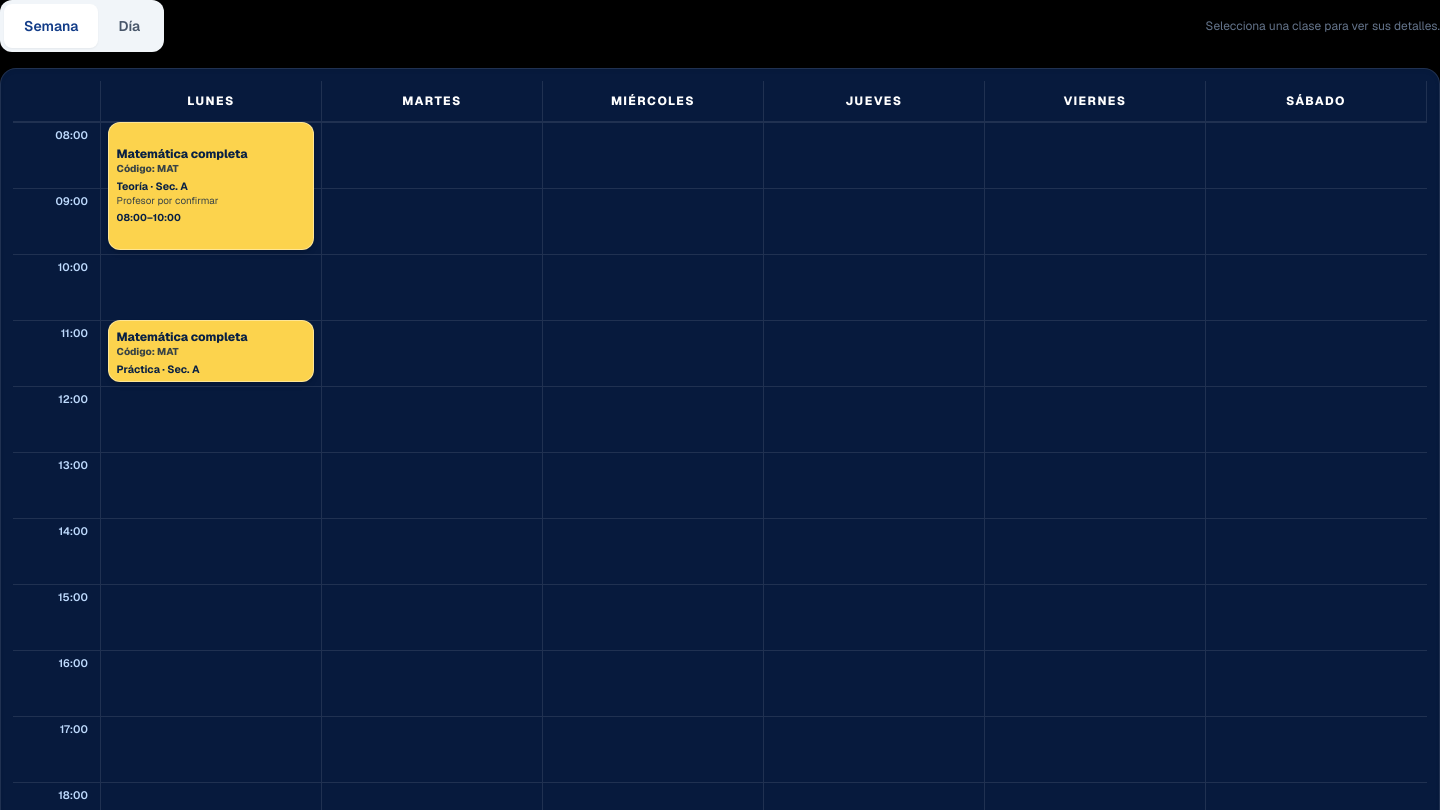
Scenario: experiencia del horario › presenta día completo, huecos y días sin clases
The width and height of the screenshot is (1440, 810).
Click the button "Día" at (129, 26), box x1=98 y1=4 x2=160 y2=48
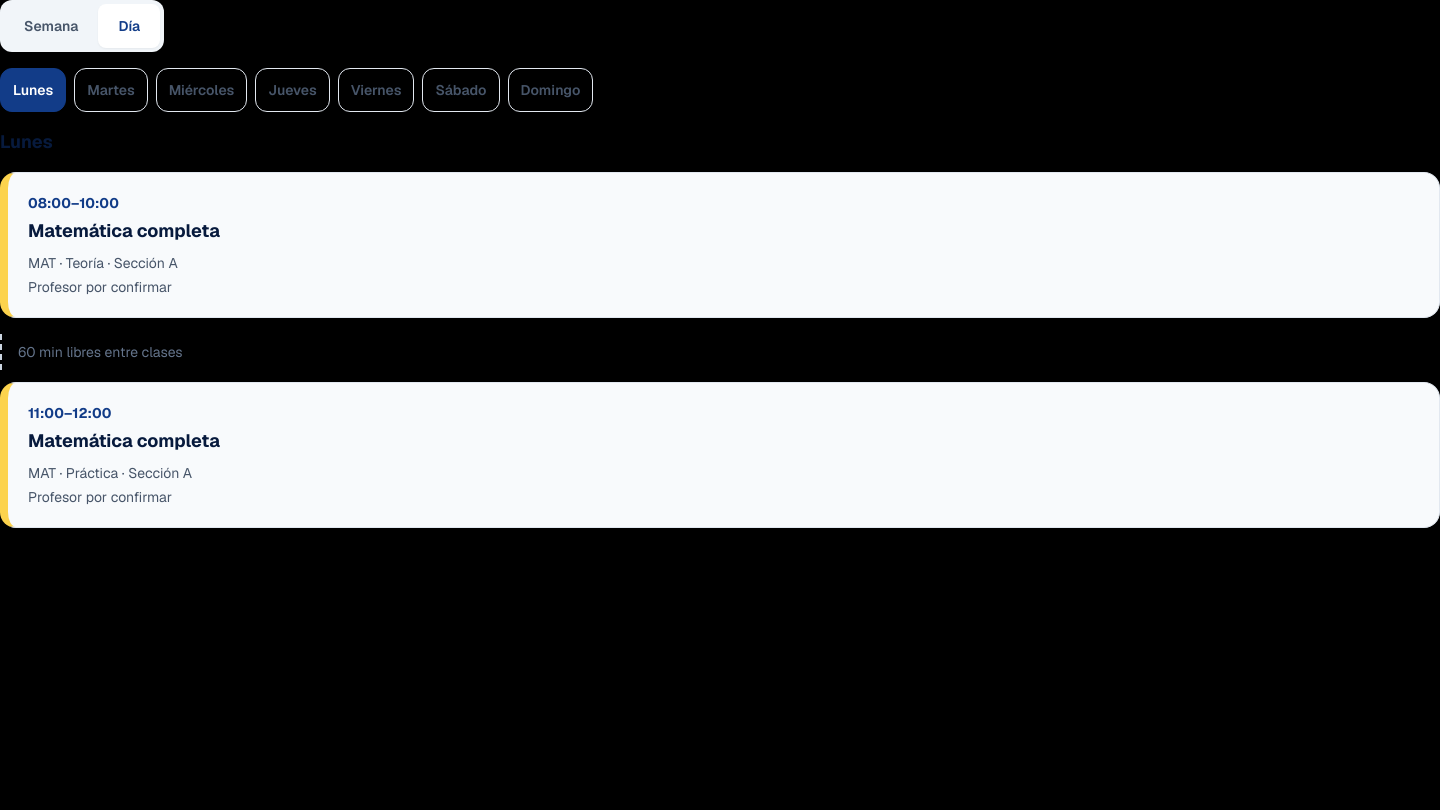
Check: the text "Selecciona una clase para ver sus detalles." is gone
Check: the text "60 min libres entre clases" is shown, box x1=0 y1=334 x2=1439 y2=370
Check: the number of headings "Matemática completa" is 2, box x1=28 y1=219 x2=220 y2=242; x1=28 y1=429 x2=220 y2=452
Click the button "Domingo" at (550, 90), box x1=508 y1=68 x2=593 y2=112
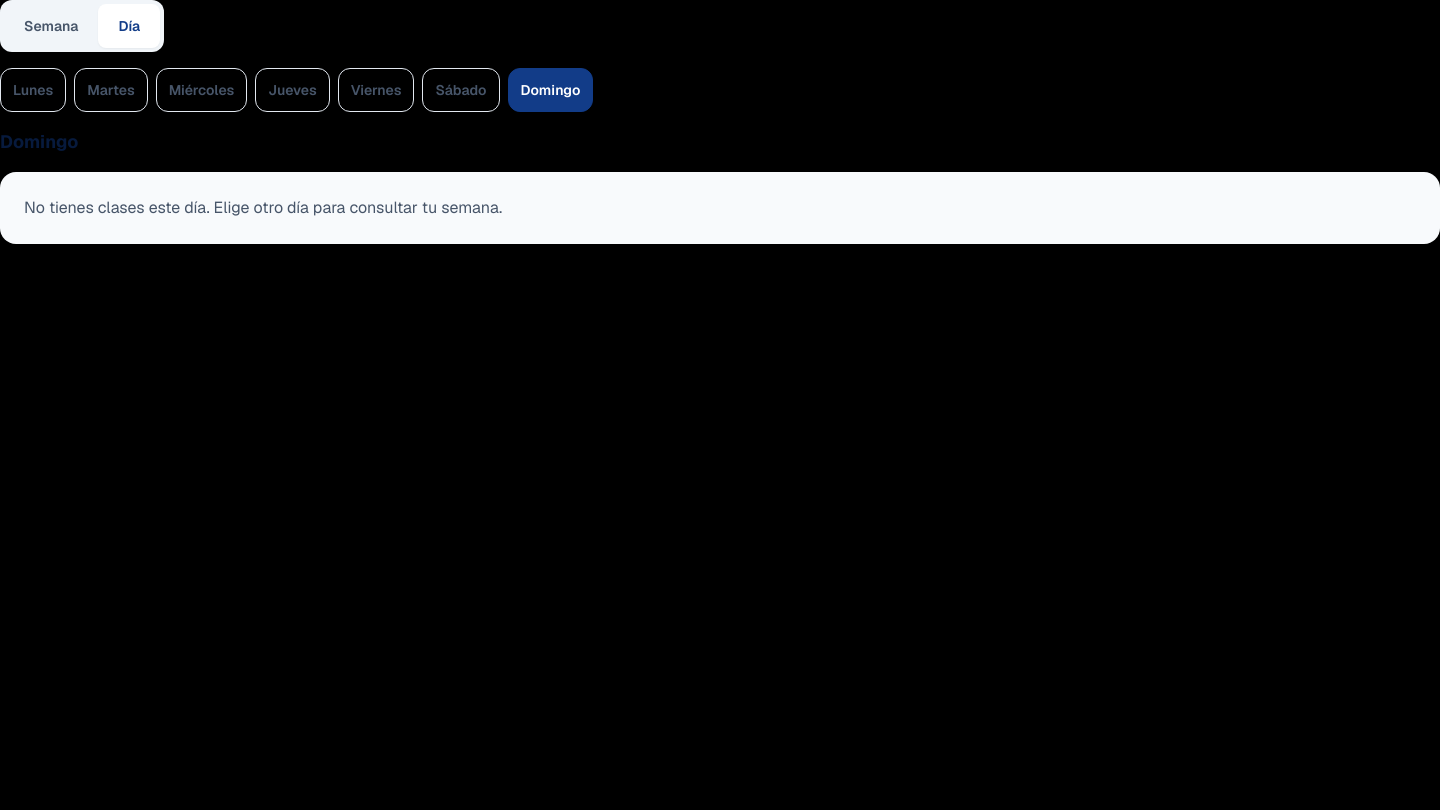
Check: the text "No tienes clases este día" is shown, box x1=24 y1=197 x2=502 y2=218
